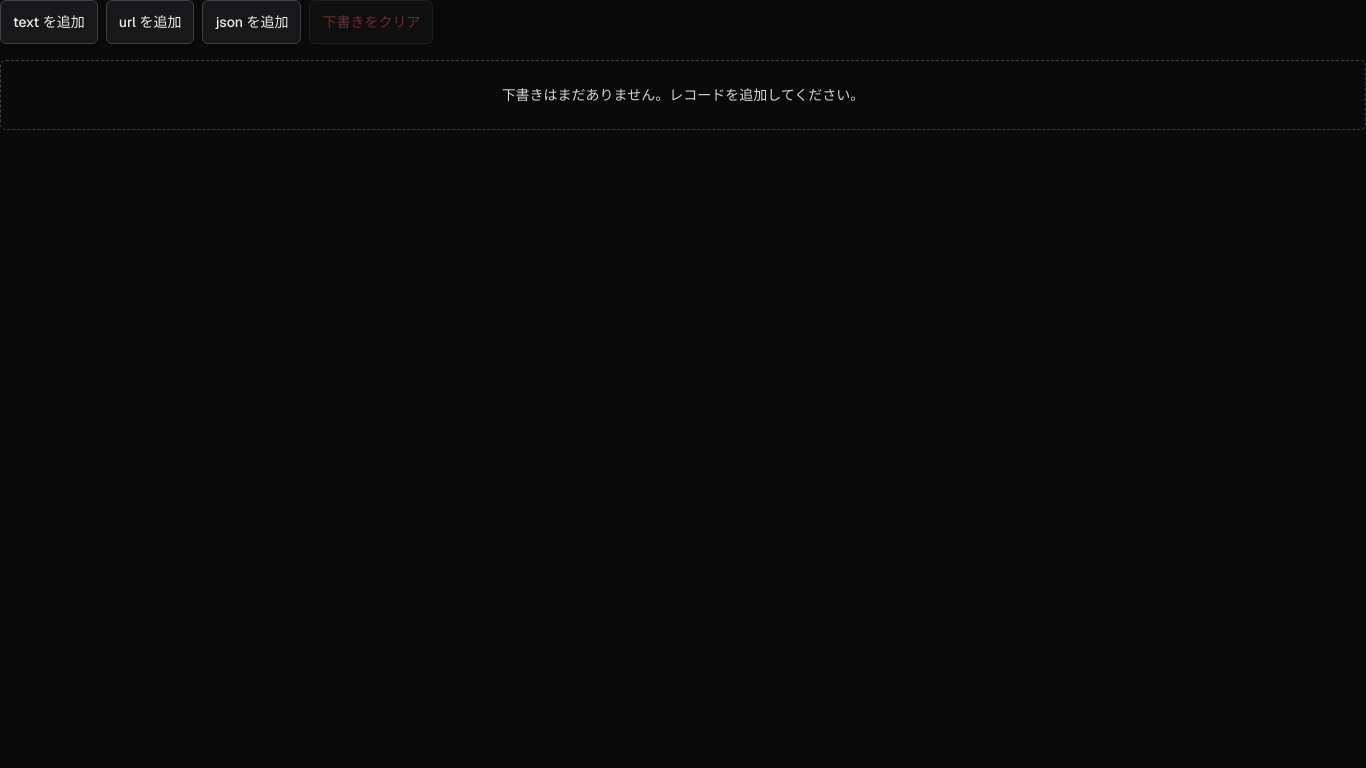
it: WriteDraftPanel › 追加ボタン押下直後は一覧に追加されない
Click the button "text を追加" at coordinates (49, 22), box [0,0,98,44]
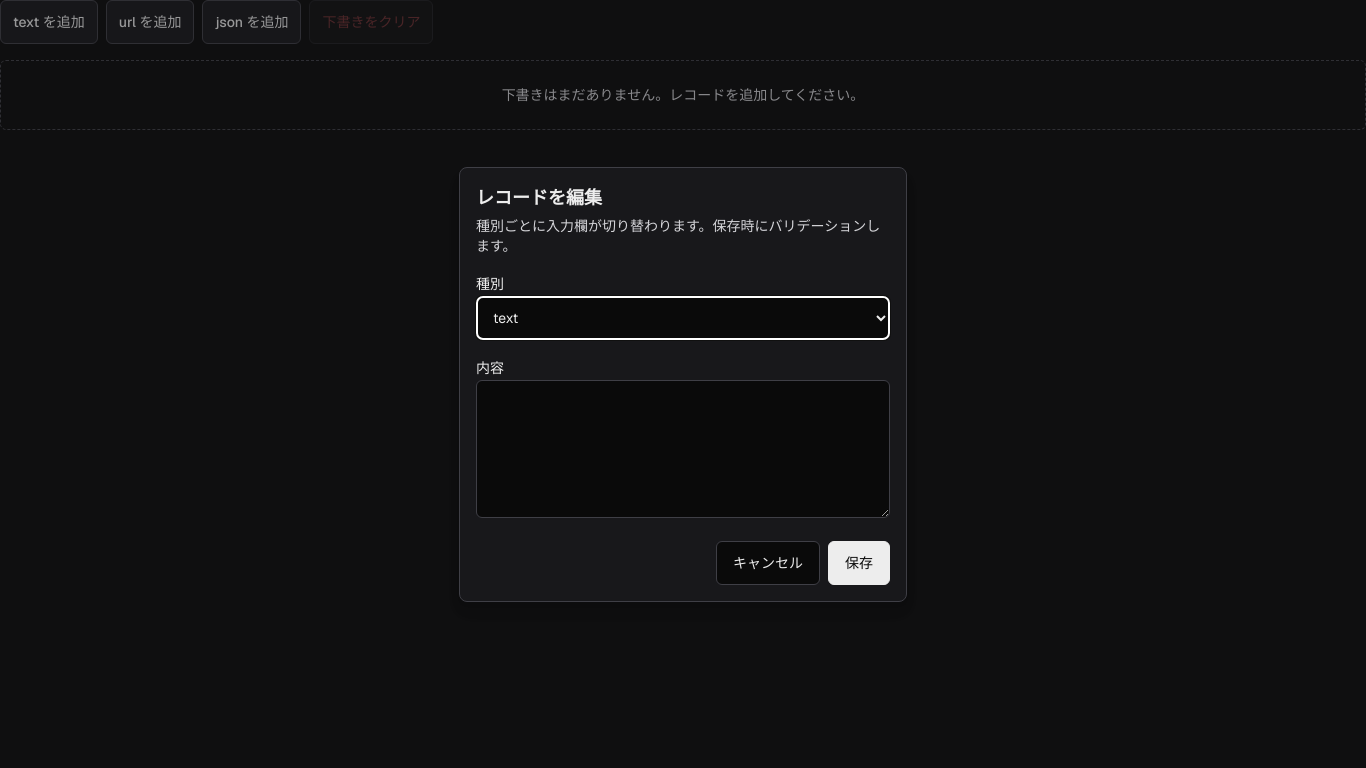
expect the text "下書きはまだありません。レコードを追加してください。" is shown: met, box [0,60,1365,130]
expect the heading "レコードを編集" is shown: met, box [476,186,602,208]
